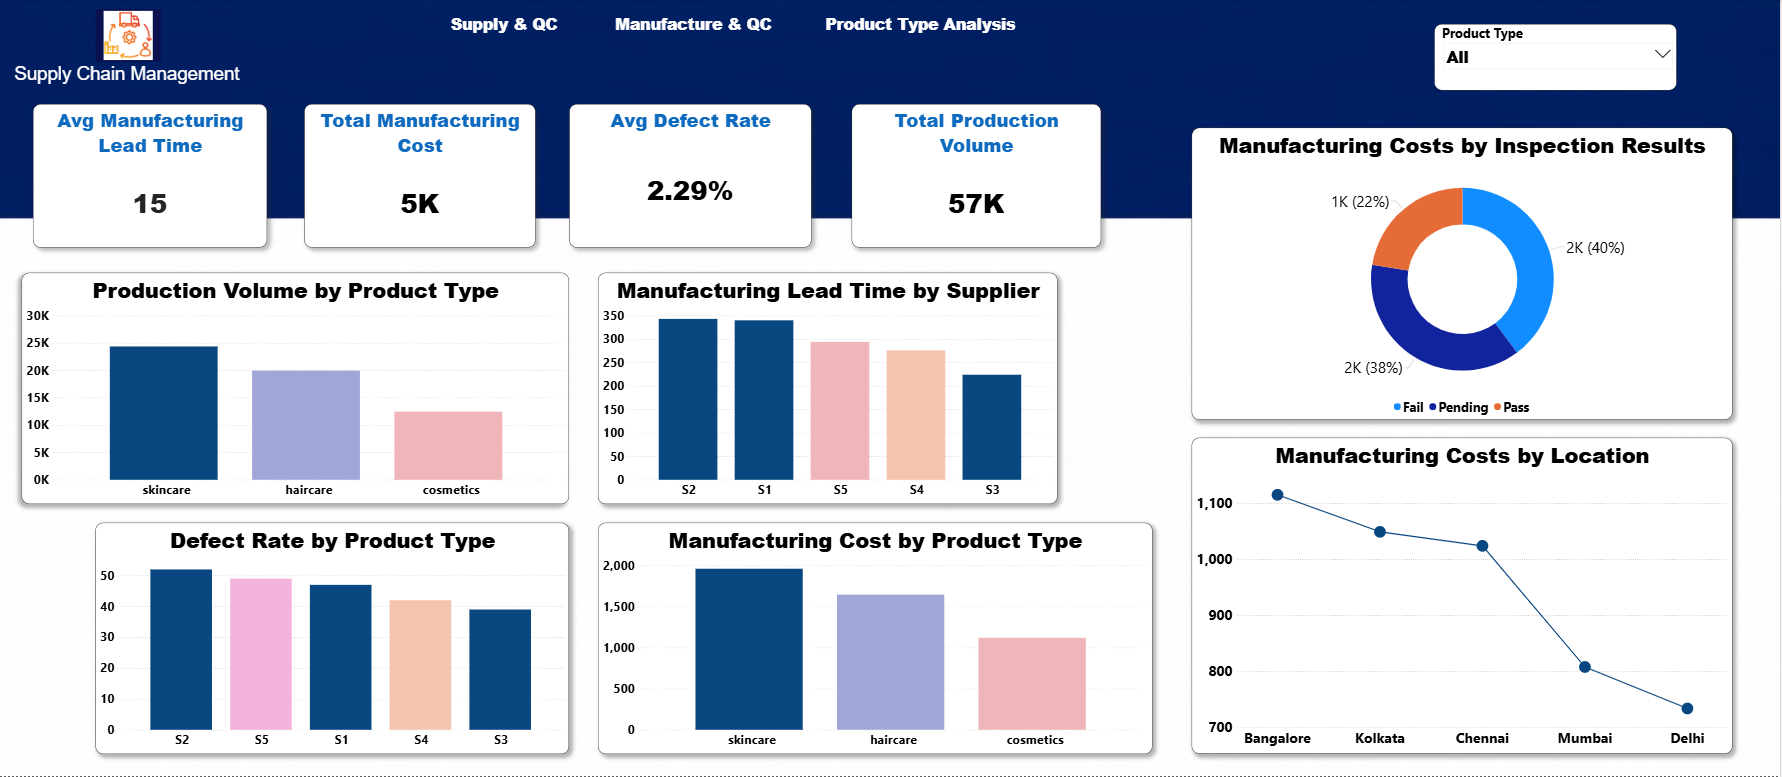

This screenshot's page, from the dashboard's own definition file:
{"tool":"powerbi","page":{"name":"Page 2","canvas":[4580,2000],"ordinal":1},"visuals":[{"type":"cardVisual","title":"Avg Manufacturing Lead Time","fields":{"Data":["Avg(supply_chain_data.Manufacturing lead time)"]},"box":[89.5,268.4,601.3,368.7],"z":0},{"type":"cardVisual","title":"Total Manufacturing Cost","fields":{"Data":["Sum(supply_chain_data.Manufacturing costs)"]},"box":[787.4,268.4,594.2,368.7],"z":1000},{"type":"cardVisual","title":"Avg Defect Rate","fields":{"Data":["supply_chain_data.avg defect rate"]},"box":[1467.5,268.4,622.8,368.7],"z":2000},{"type":"image","box":[250.5,25.1,168.2,136],"z":3000},{"type":"textbox","box":[0,161.1,662.2,68],"z":4000},{"type":"cardVisual","title":"Total Production Volume","fields":{"Data":["Sum(supply_chain_data.Production volumes)"]},"box":[2194.1,268.4,640.7,368.7],"z":5000},{"type":"columnChart","title":"Production Volume by Product Type","fields":{"Y":["Sum(supply_chain_data.Production volumes)"],"Category":["supply_chain_data.Product type"]},"box":[60.8,705.1,1406.6,594.2],"z":6000},{"type":"columnChart","title":"Manufacturing Cost by Product Type","fields":{"Y":["Sum(supply_chain_data.Manufacturing costs)"],"Category":["supply_chain_data.Product type"]},"box":[1542.7,1345.8,1424.5,594.2],"z":7000},{"type":"columnChart","title":"Manufacturing Lead Time by Supplier ","fields":{"Y":["Sum(supply_chain_data.Manufacturing lead time)"],"Category":["supply_chain_data.Supp..."]},"box":[1542.7,705.1,1181.2,594.2],"z":8000},{"type":"columnChart","title":" Defect Rate by Product Type","fields":{"Y":["Sum(supply_chain_data.Defect rates)"],"Category":["supply_chain_data.Supp..."]},"box":[250.5,1345.8,1216.9,594.2],"z":9000},{"type":"donutChart","title":"Manufacturing Costs by Inspection Results","fields":{"Category":["supply_chain_data.Inspection results"],"Y":["Sum(supply_chain_data.Manufacturing costs)"]},"box":[3067.3,329.5,1389.3,750.7],"z":10000},{"type":"lineChart","title":"Manufacturing Costs by Location","fields":{"Y":["Sum(supply_chain_data.Manufacturing costs)"],"Category":["supply_chain_data.Location"]},"box":[3067.3,1127.7,1389.3,811.8],"z":11000},{"type":"actionButton","box":[1084.5,32.2,429.5,60.8],"z":12000},{"type":"actionButton","box":[1514,28.6,547.6,68],"z":13000},{"type":"actionButton","box":[2090.3,32.2,558.4,64.4],"z":14000},{"type":"slicer","title":"Product Type","fields":{"Values":["supply_chain_data.Product type"]},"box":[3691.4,64.3,623.3,170.3],"z":15000}]}

Visuals, with their boxes in screenshot pixels (x1, y1, x2, y2), scaled from the page's 4580x2000 canvas onto the 1782x777 screenshot:
"Avg Manufacturing Lead Time" cardVisual: bbox=(35, 104, 269, 248)
"Total Manufacturing Cost" cardVisual: bbox=(306, 104, 538, 248)
"Avg Defect Rate" cardVisual: bbox=(571, 104, 813, 248)
image: bbox=(97, 10, 163, 63)
textbox: bbox=(0, 63, 258, 89)
"Total Production Volume" cardVisual: bbox=(854, 104, 1103, 248)
"Production Volume by Product Type" columnChart: bbox=(24, 274, 571, 505)
"Manufacturing Cost by Product Type" columnChart: bbox=(600, 523, 1154, 754)
"Manufacturing Lead Time by Supplier " columnChart: bbox=(600, 274, 1060, 505)
" Defect Rate by Product Type" columnChart: bbox=(97, 523, 571, 754)
"Manufacturing Costs by Inspection Results" donutChart: bbox=(1193, 128, 1734, 420)
"Manufacturing Costs by Location" lineChart: bbox=(1193, 438, 1734, 753)
actionButton: bbox=(422, 13, 589, 36)
actionButton: bbox=(589, 11, 802, 38)
actionButton: bbox=(813, 13, 1031, 38)
"Product Type" slicer: bbox=(1436, 25, 1679, 91)
